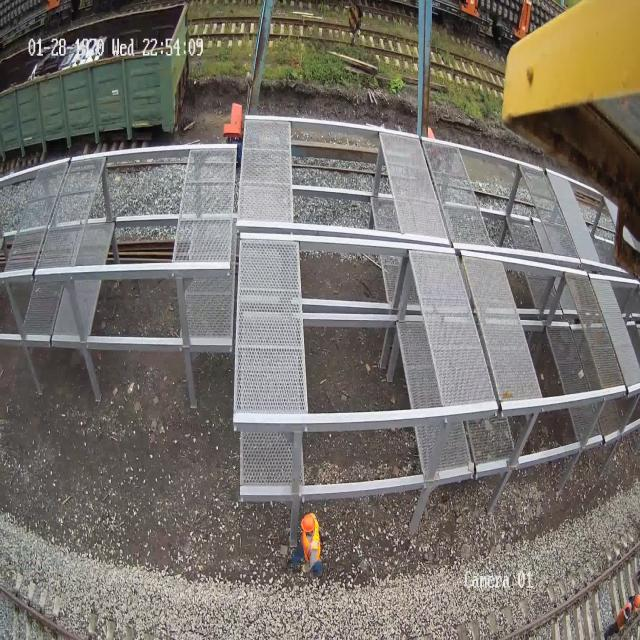Helmet: (300, 514, 314, 533)
Person: (604, 594, 640, 640), (300, 512, 322, 576)
